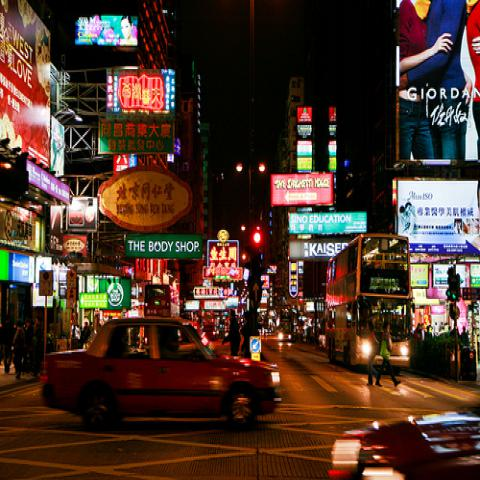bus: (326, 233, 410, 368)
car: (38, 316, 285, 433), (327, 405, 479, 479), (279, 329, 291, 341)
